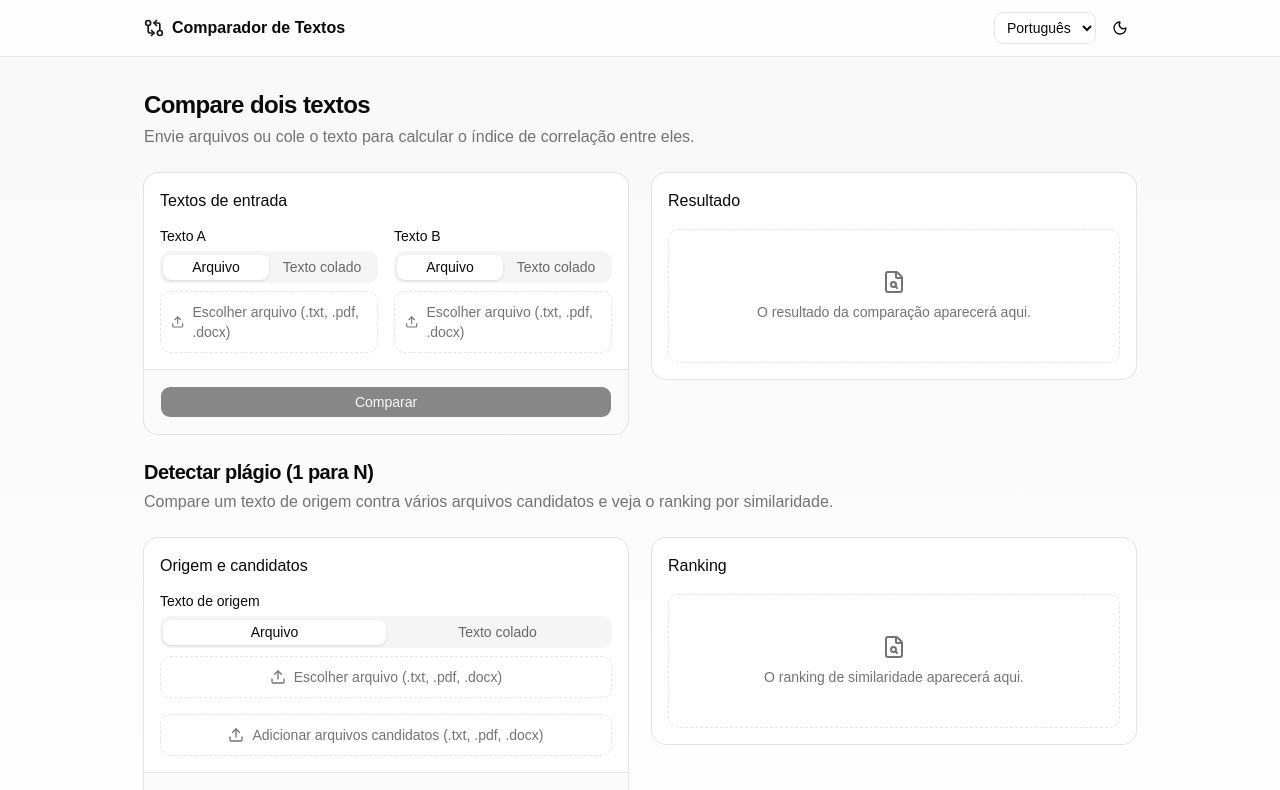
App › translates the main interface when the language changes
The width and height of the screenshot is (1280, 790).
Select "Inglês" in the dropdown named "Idioma" at (1045, 28), box left=994, top=12, right=1096, bottom=44
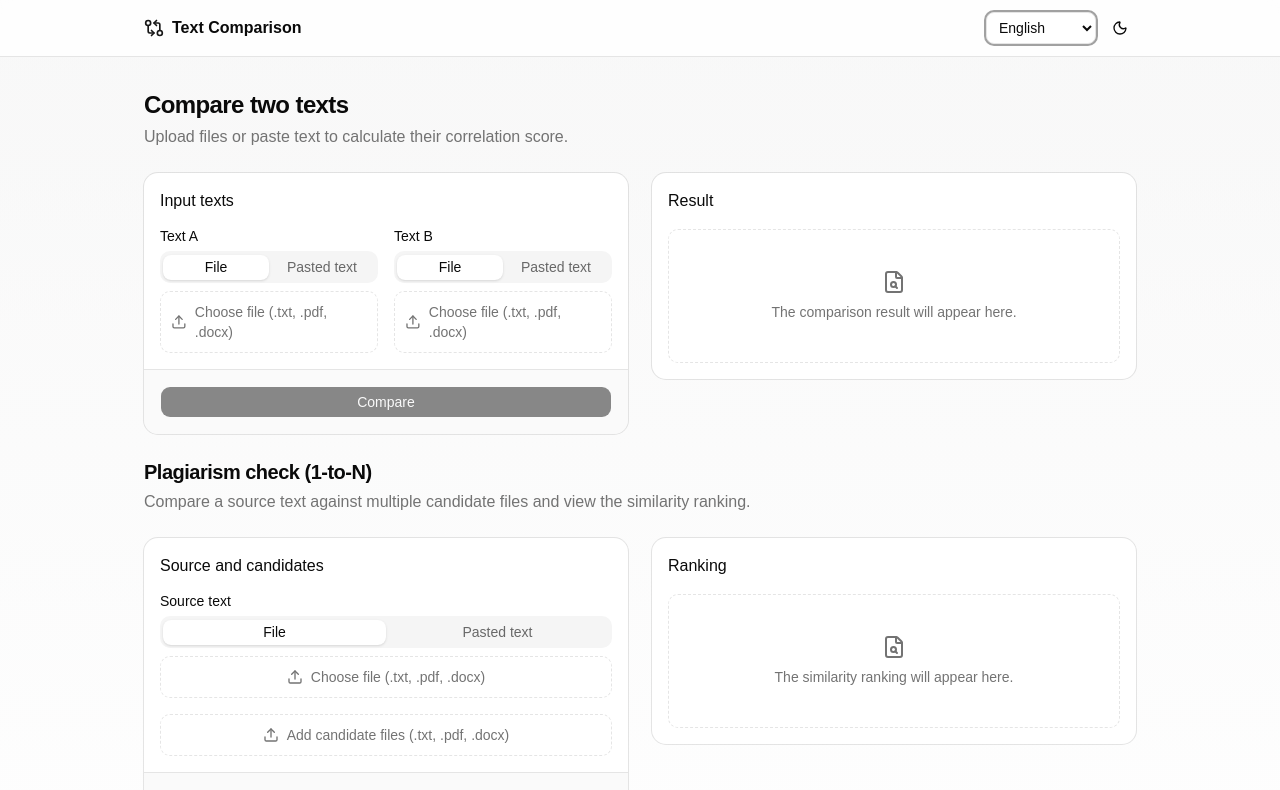
Expected: the heading "Compare two texts" is shown, left=144, top=91, right=348, bottom=118
Expected: the text "Input texts" is shown, left=160, top=192, right=234, bottom=209
